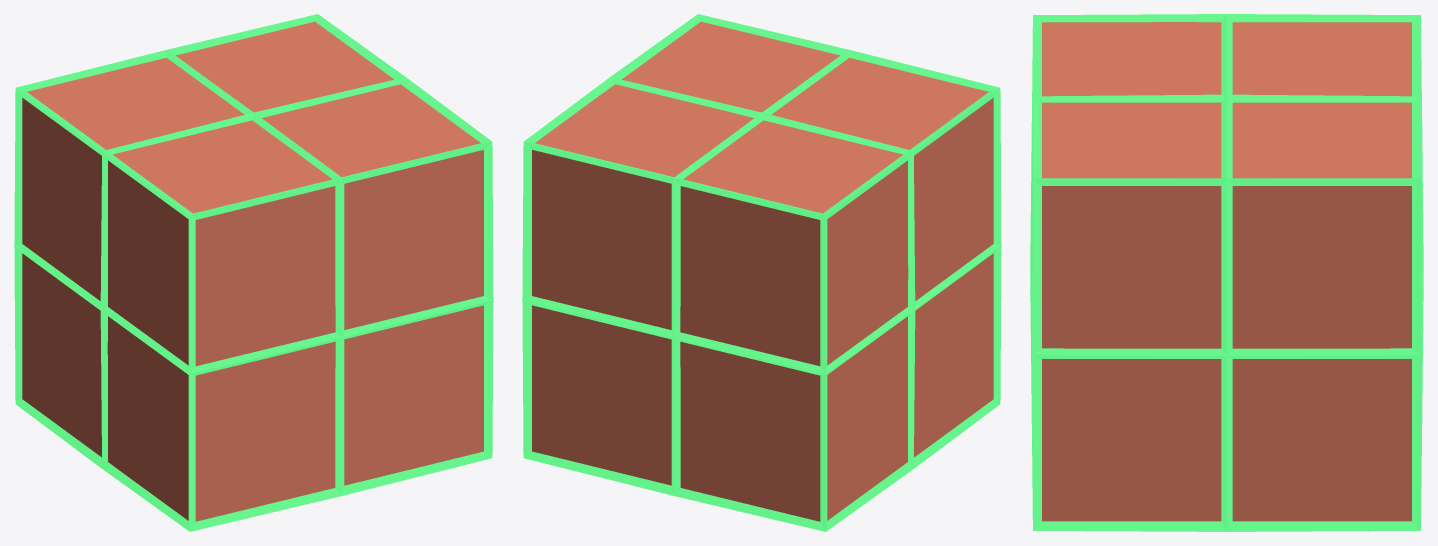
The picture shows the model from 3 angles, left to right: view 1: azimuth 30°, elevation 25°; view 2: azimuth 150°, elevation 25°; view 3: azimuth 270°, elevation 25°; orthographic projection. The views are drawn at different scales.
Parts seen in each view (by area): view 1: Cube, Cube.001; view 2: Cube, Cube.001; view 3: Cube, Cube.001.
Part boxes in pixels (x1,y1,x2,y2): Cube: (22, 21, 483, 521); Cube.001: (14, 14, 493, 531); Cube: (532, 21, 993, 521); Cube.001: (522, 14, 1001, 531); Cube: (1042, 22, 1411, 521); Cube.001: (1030, 14, 1423, 531).
Bounding box in the file's own units: 2.07 × 2.07 × 2.07.
